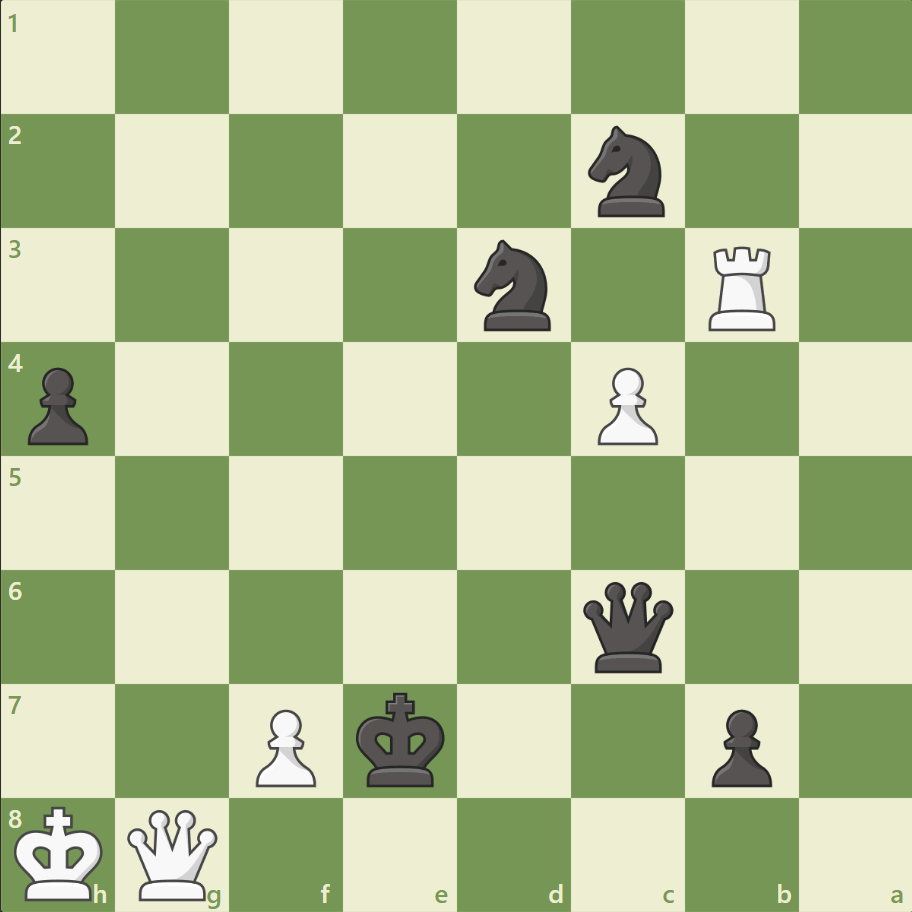K: (11, 798, 111, 906)
P: (247, 700, 322, 791), (588, 359, 662, 450)
Q: (124, 804, 223, 903)
R: (700, 239, 783, 336)
k: (351, 685, 451, 793)
n: (465, 234, 562, 337), (579, 121, 676, 223)
p: (701, 700, 776, 791), (20, 359, 95, 450)
q: (578, 576, 677, 676)
